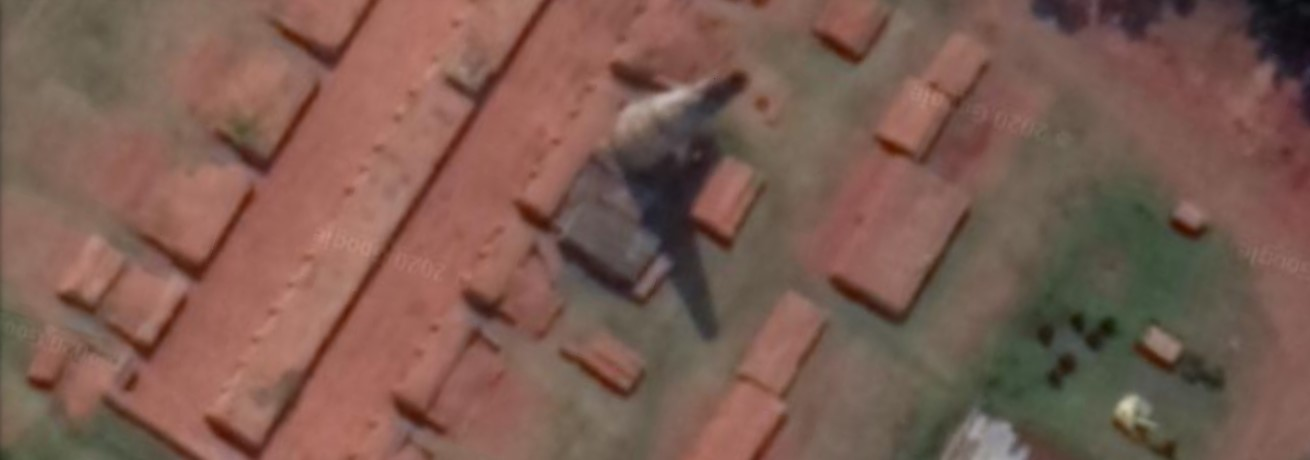kiln: (305, 5, 926, 452)
